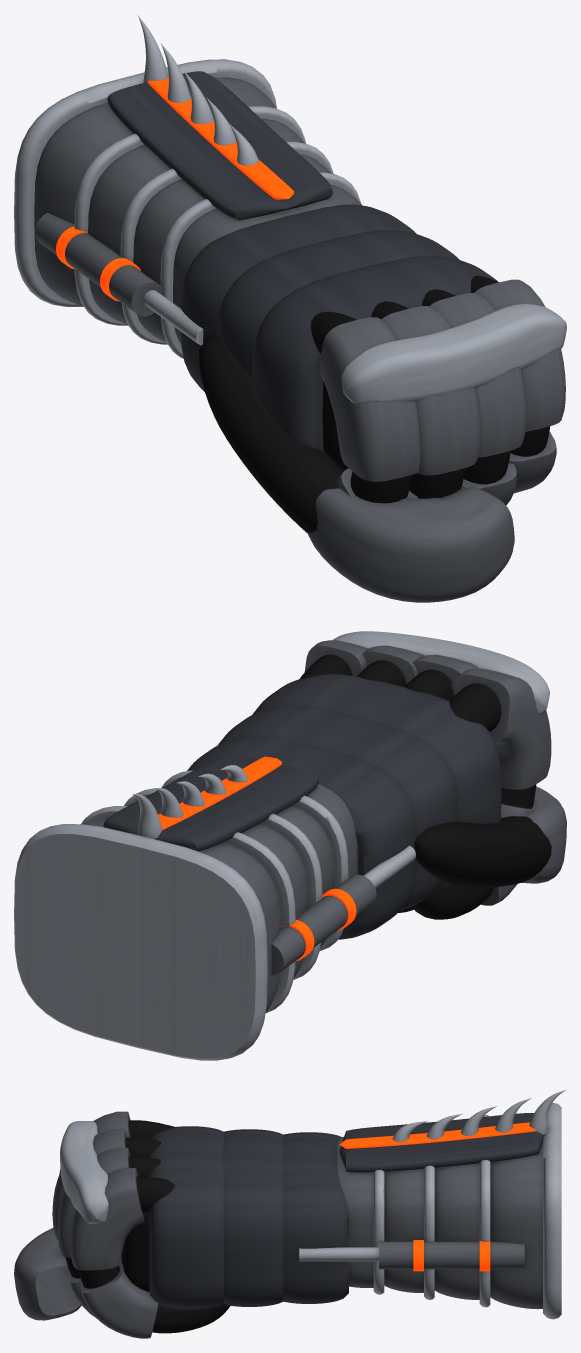
File: gauntlet_L_hd.glb
The picture shows the model from 3 angles, top to bottom: view 1: azimuth 30°, elevation 25°; view 2: azimuth 150°, elevation 25°; view 3: azimuth 270°, elevation 25°; orthographic projection. The views are drawn at different scales.
Parts seen in each view (by area): view 1: Weapon; view 2: Weapon; view 3: Weapon.
Part boxes in pixels (x1,y1,x2,y2): Weapon: [14, 15, 566, 602]; Weapon: [14, 631, 566, 1060]; Weapon: [14, 1089, 565, 1338].
Bounding box in the file's own units: 0.3657 × 0.3973 × 0.835.
1 material, 1 textured.
